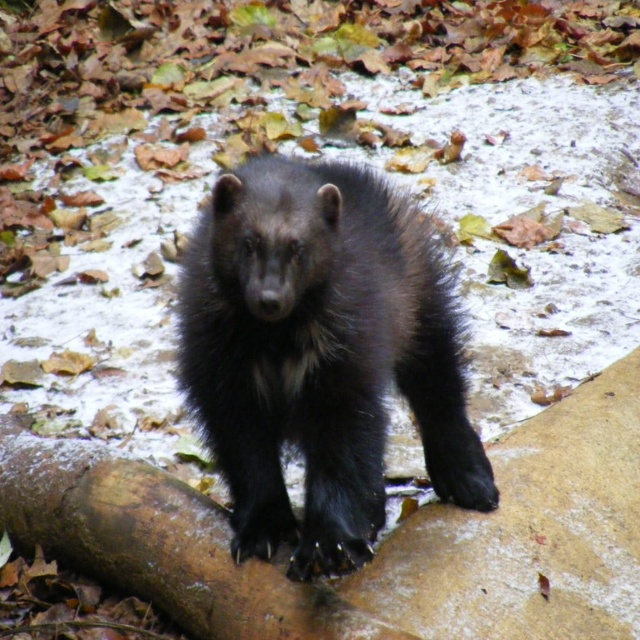Bear: (170, 153, 501, 583)
